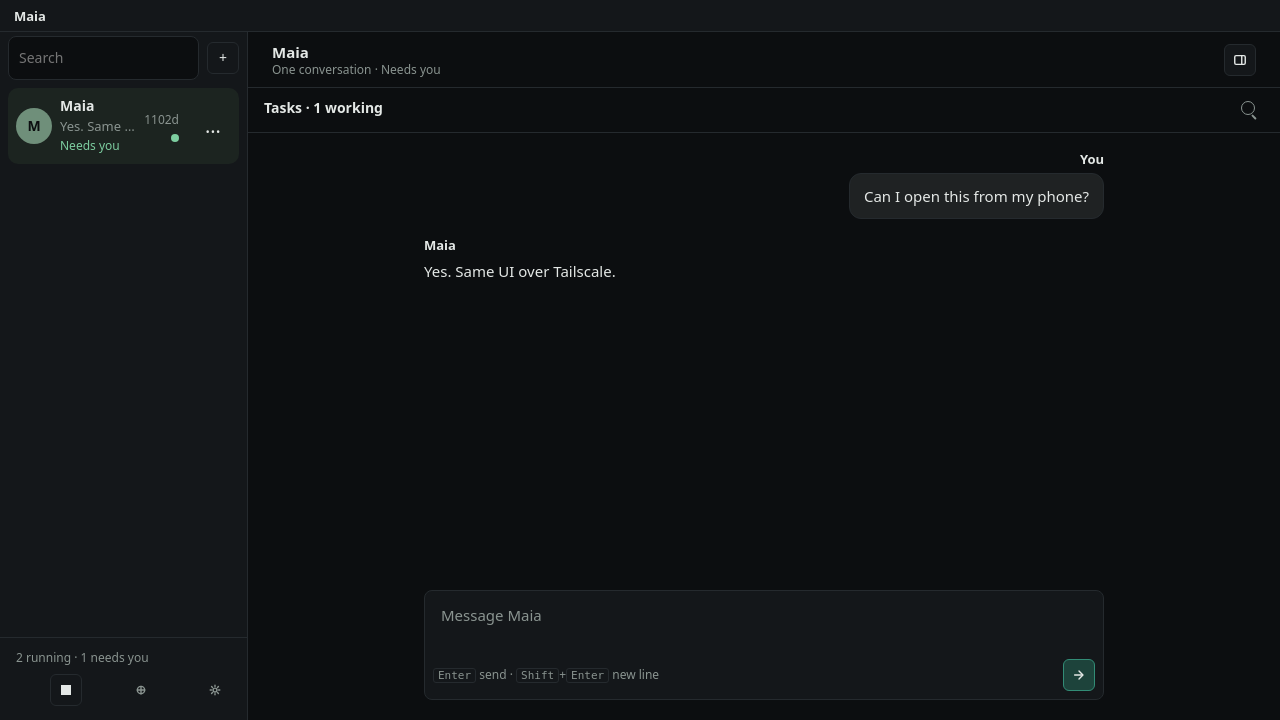
Scenario: AppShell layout › keeps composer drafts per bot when switching chats
Expected: the text "Can I open this from my phone?" is shown, 864,184 -> 1089,208
Type "Draft for Maia only" into the text box labelled "Message".
click(764, 621); type("Draft for Maia only")  # box 425,591 -> 1103,651
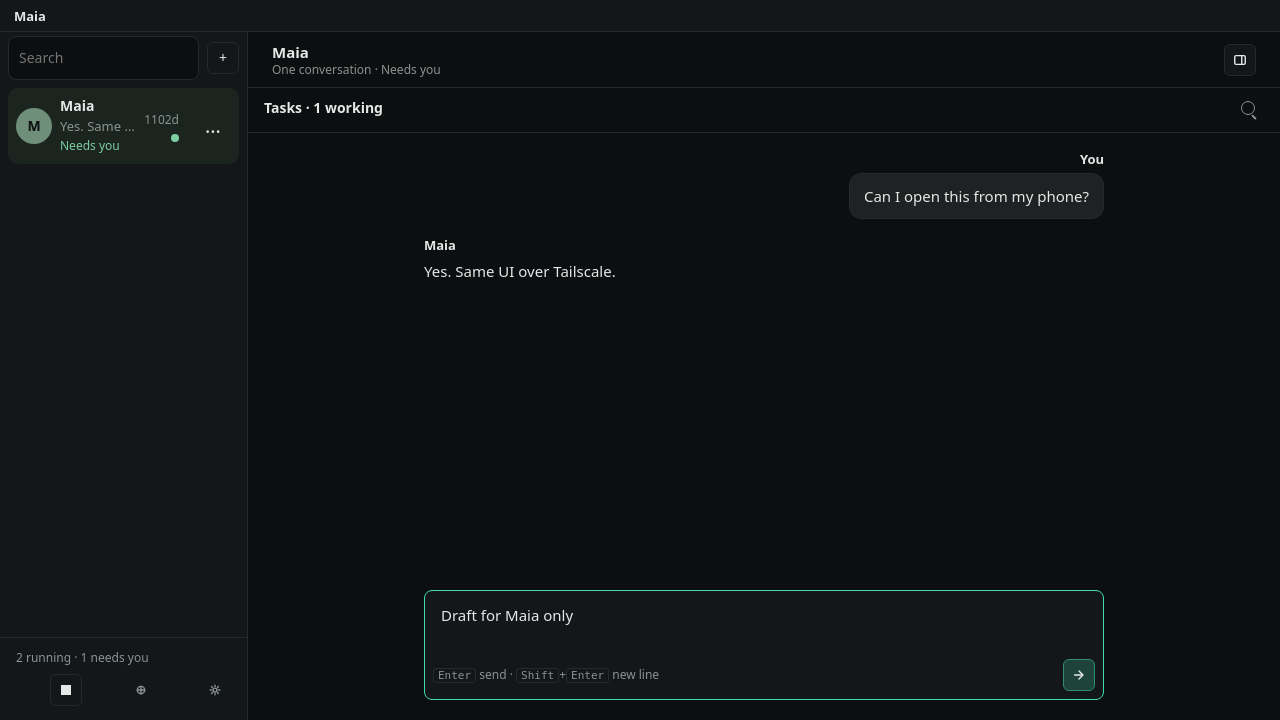
Click the button named "New bot".
click(223, 58)  # box 207,42 -> 239,74
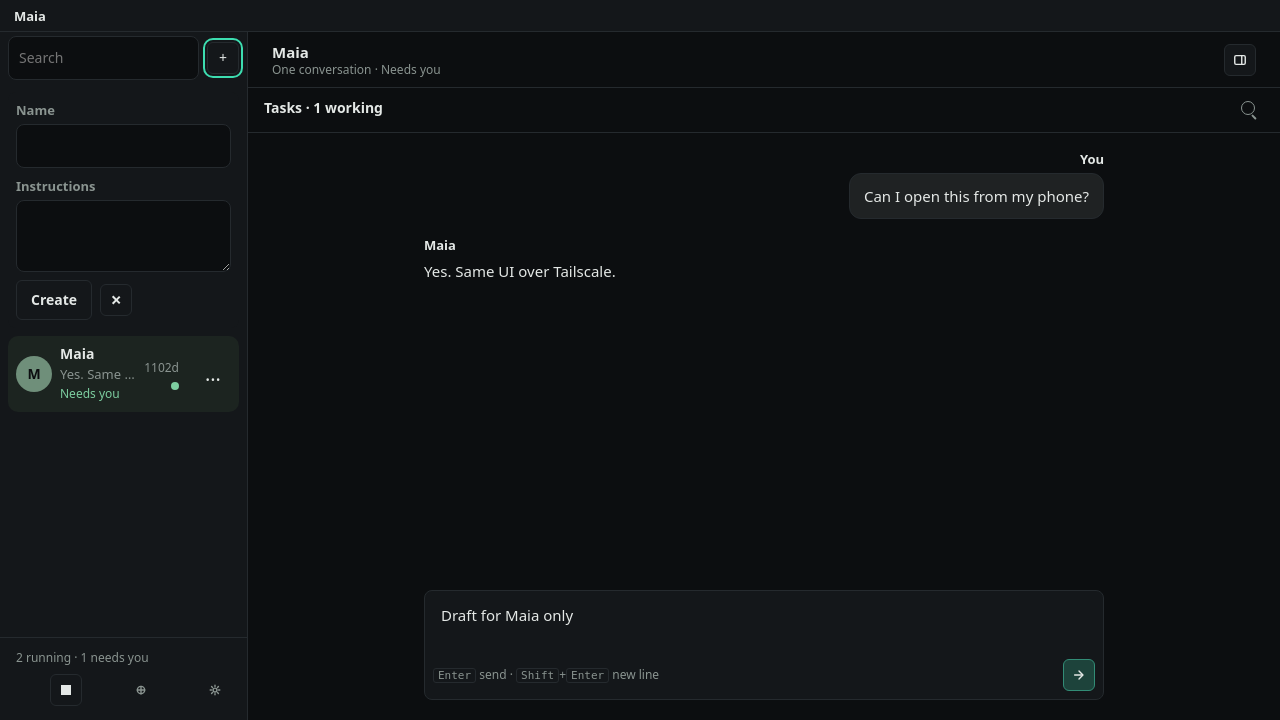
Type "Coding" into the field named "Bot name".
click(124, 146); type("Coding")  # box 16,124 -> 231,168
Click the button "Create".
click(54, 300)  # box 16,280 -> 92,320
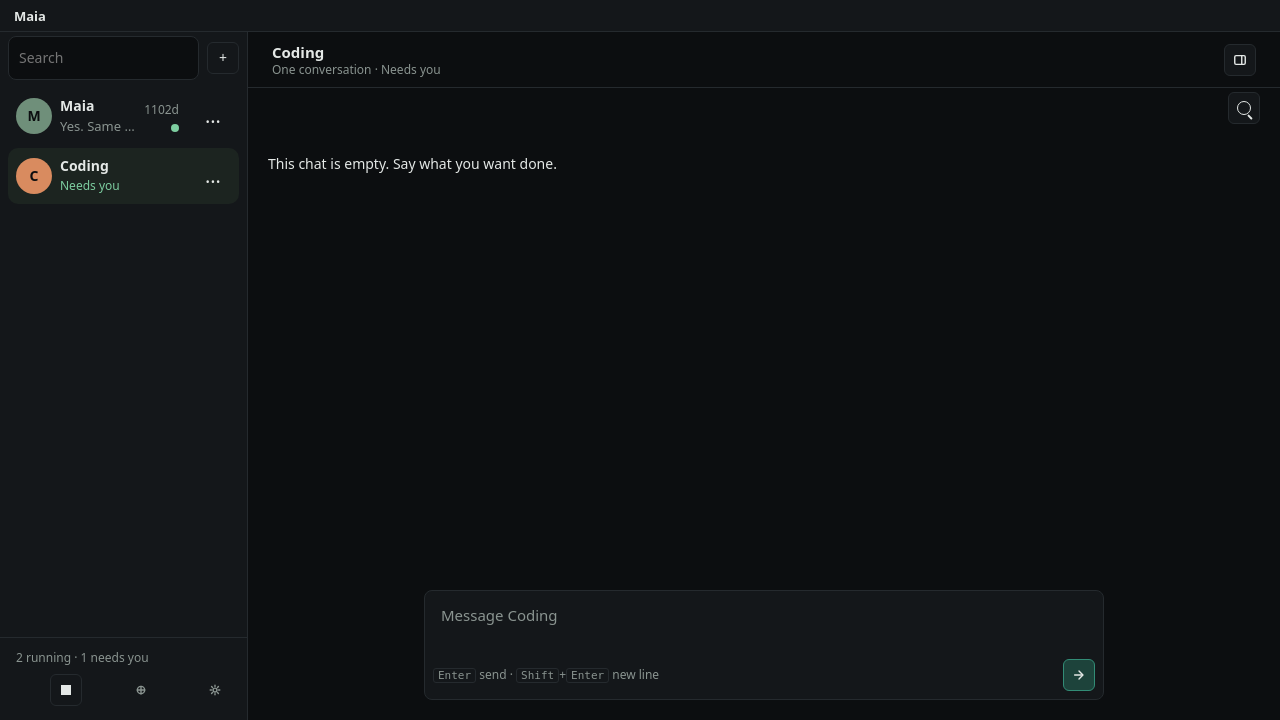
Expected: the heading "Coding" is shown, 272,42 -> 324,62
Expected: the text "This chat is empty. Say what you want done." is shown, 268,154 -> 557,173
Expected: the text box labelled "Message" is empty
Type "Draft for Coding" into the text box labelled "Message".
click(764, 621); type("Draft for Coding")  # box 425,591 -> 1103,651
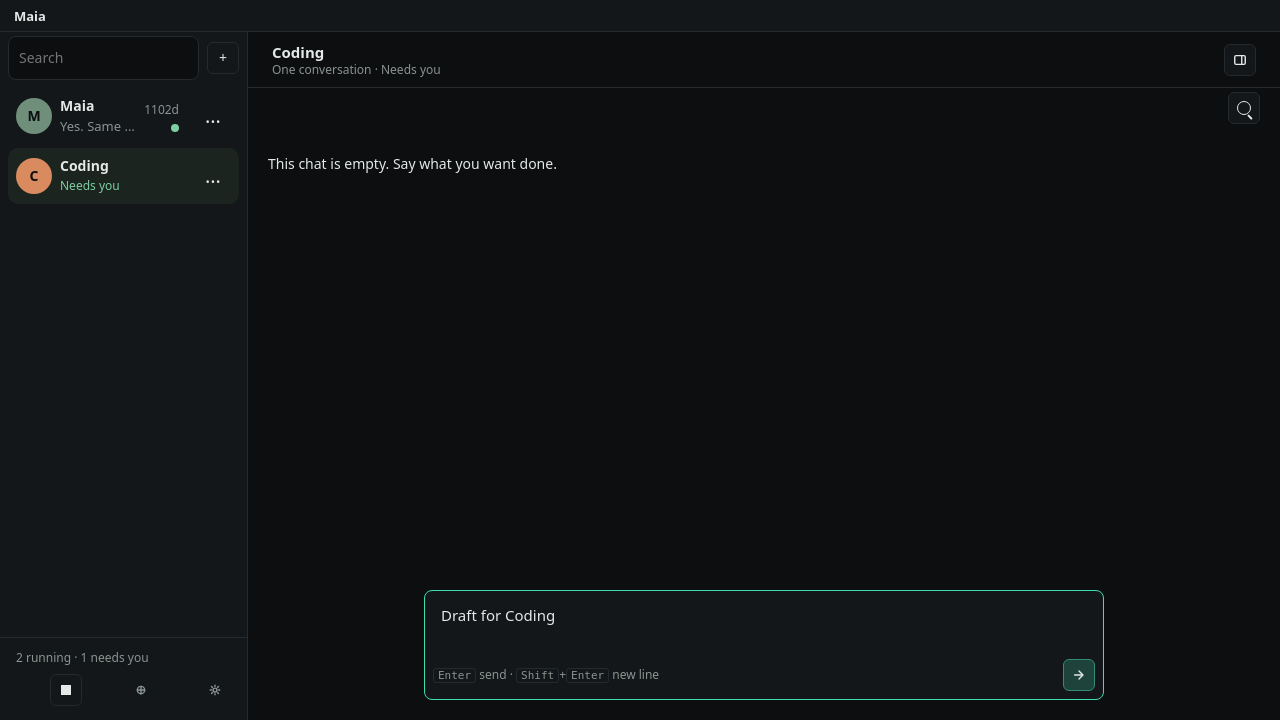
Click the button "M Maia Yes. Same UI over Tailscale. 1102d".
click(98, 116)  # box 8,88 -> 187,144
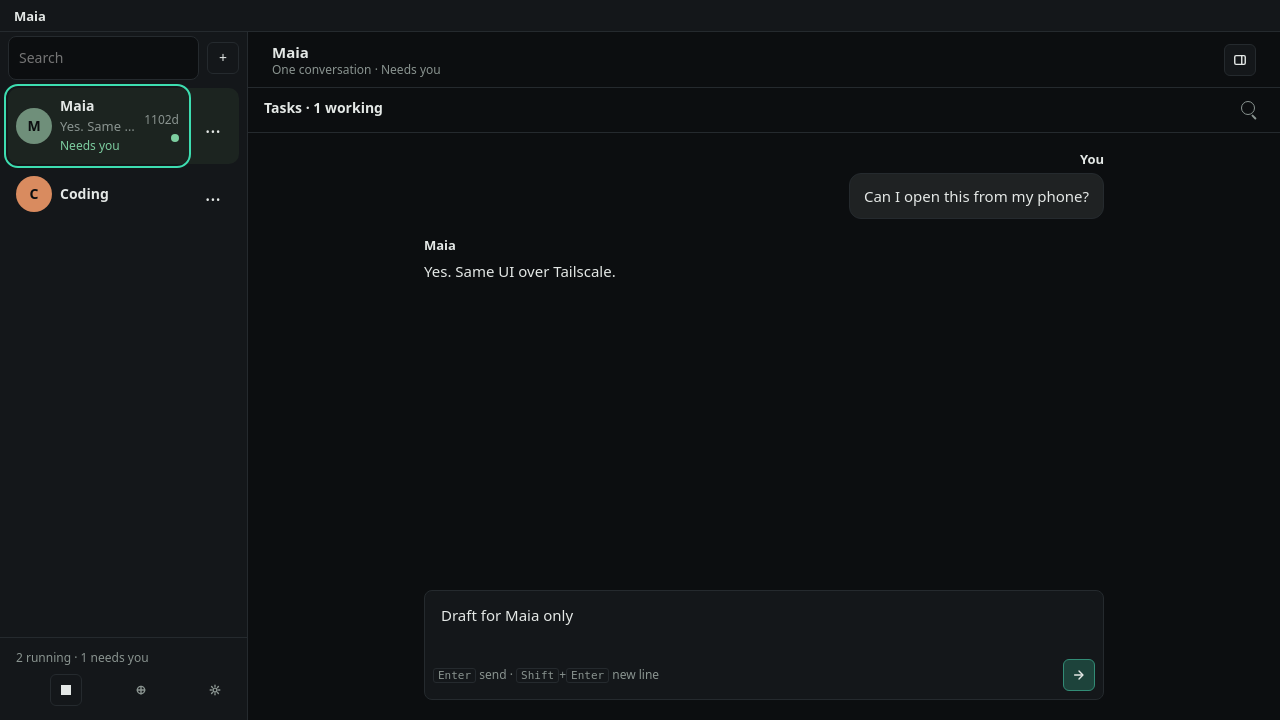
Expected: the text "Can I open this from my phone?" is shown, 864,184 -> 1089,208
Click the button "C Coding".
click(98, 194)  # box 8,168 -> 187,220
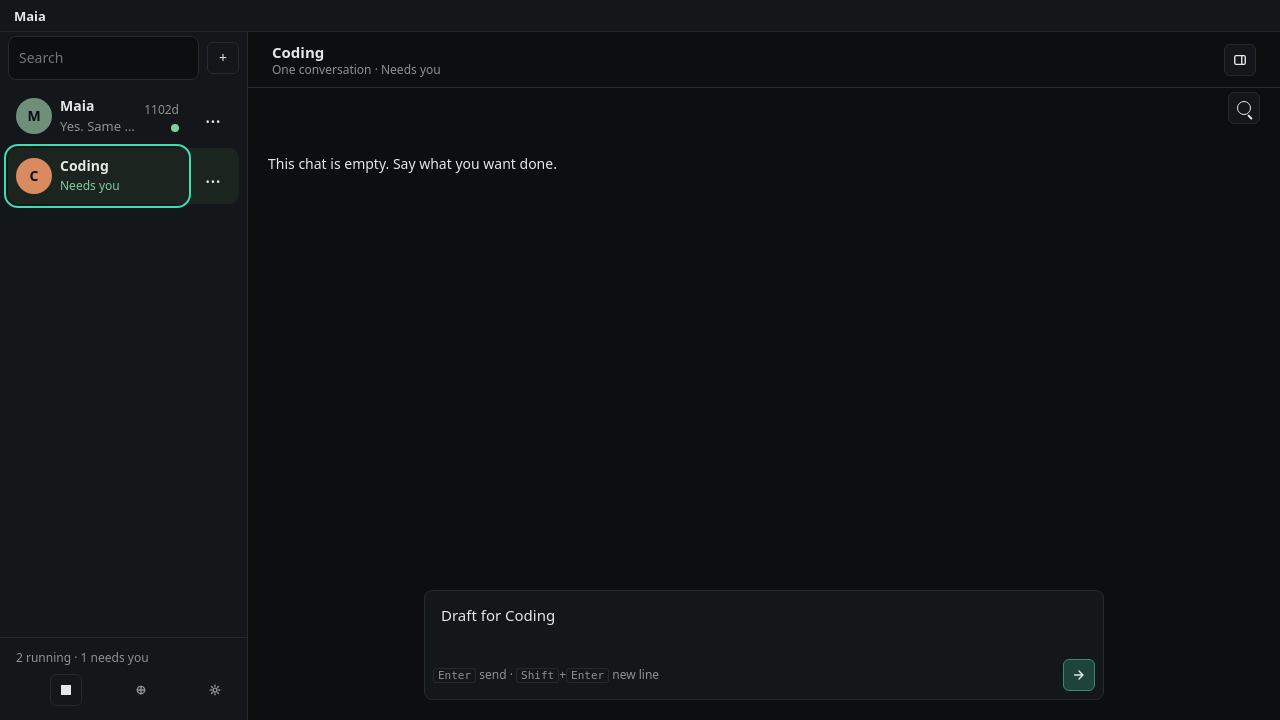
Expected: the text "This chat is empty. Say what you want done." is shown, 268,154 -> 557,173
